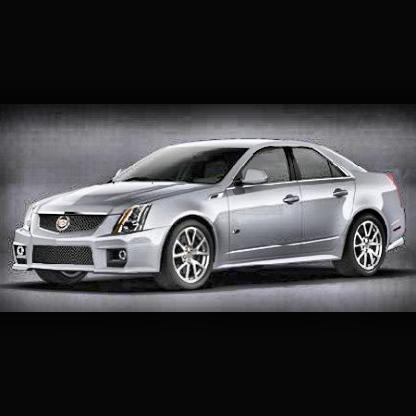Cadillac CTS-V Sedan 2012: (11, 139, 408, 295)
